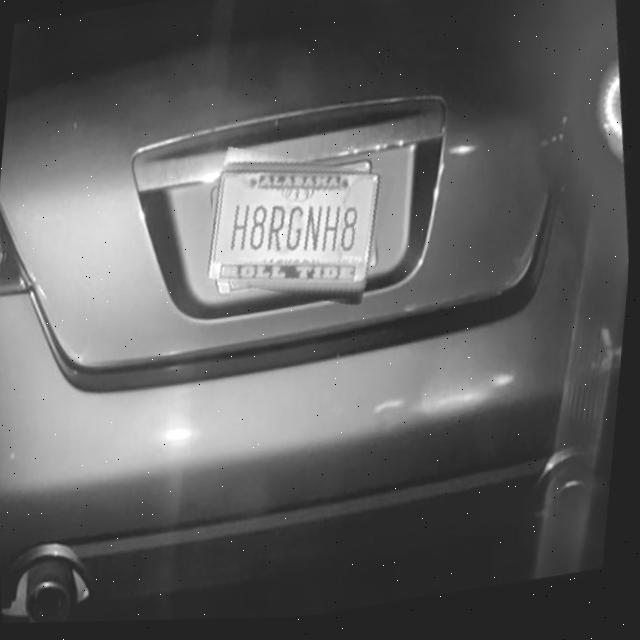LicensePlate: (209, 176, 383, 288)
